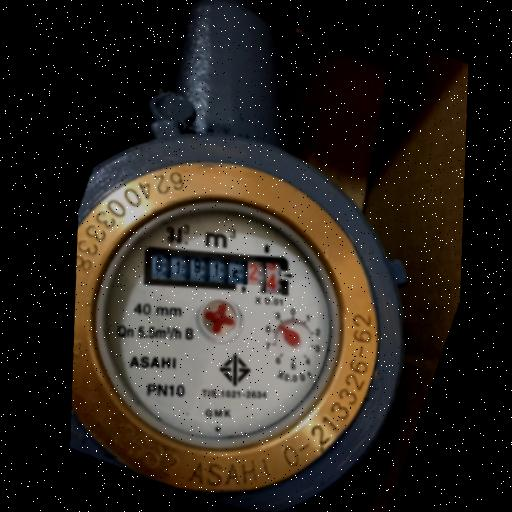1: (170, 256, 187, 280), (208, 259, 225, 282)
2: (247, 262, 262, 286)
4: (264, 261, 281, 292)
5: (229, 262, 245, 285)
6: (150, 254, 167, 279)
9: (189, 258, 206, 282)
border_water_meter_number: (142, 244, 294, 299)
